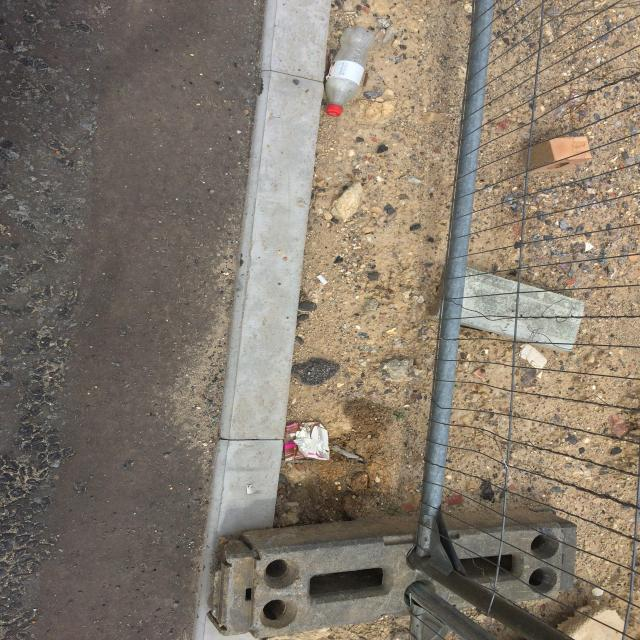litter: (324, 27, 374, 116), (283, 420, 331, 464)
